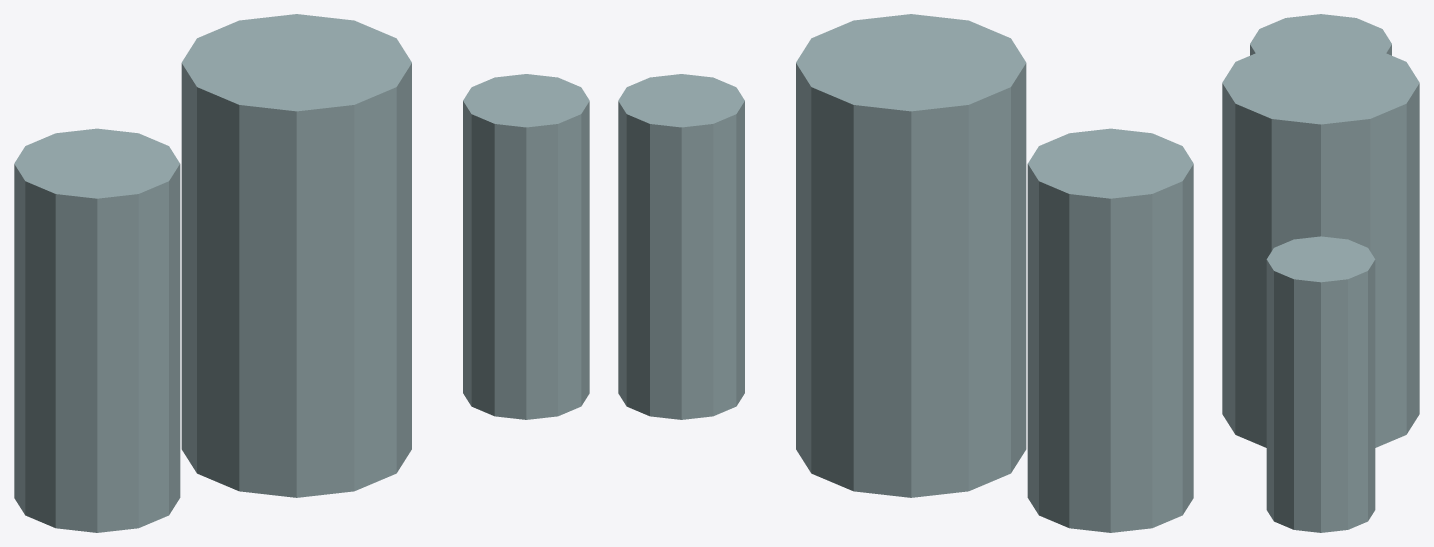
Rendered from SCI-006.glb.
The picture shows the model from 3 angles, left to right: view 1: azimuth 30°, elevation 25°; view 2: azimuth 150°, elevation 25°; view 3: azimuth 270°, elevation 25°; orthographic projection. The views are drawn at different scales.
Parts seen in each view (by area): view 1: 001_Glass_vessel, 000_Glass_vessel, 002_Glass_vessel; view 2: 001_Glass_vessel, 000_Glass_vessel, 002_Glass_vessel; view 3: 001_Glass_vessel, 002_Glass_vessel, 000_Glass_vessel.
Part boxes in pixels (left/top/right/bottom): 001_Glass_vessel: left=181, top=14, right=411, bottom=497; 000_Glass_vessel: left=14, top=128, right=180, bottom=532; 002_Glass_vessel: left=463, top=74, right=589, bottom=419; 001_Glass_vessel: left=796, top=14, right=1026, bottom=497; 000_Glass_vessel: left=1027, top=128, right=1193, bottom=532; 002_Glass_vessel: left=618, top=74, right=744, bottom=419; 001_Glass_vessel: left=1222, top=41, right=1419, bottom=447; 002_Glass_vessel: left=1266, top=236, right=1375, bottom=532; 000_Glass_vessel: left=1250, top=14, right=1391, bottom=55.
Bounding box in the file's own units: 0.557 × 0.37 × 0.2.
